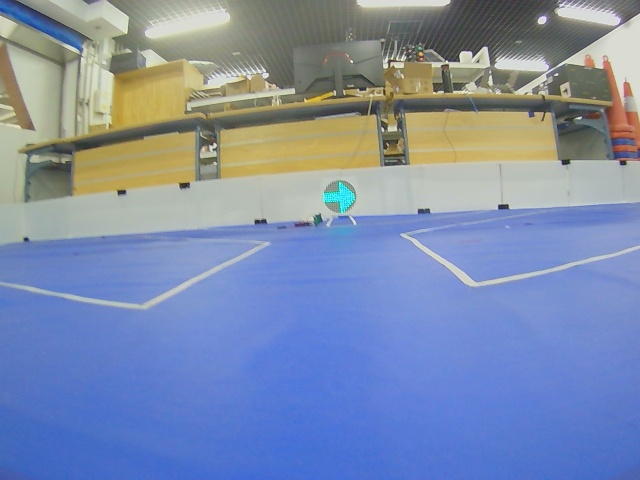right_green: (323, 180, 356, 214)
